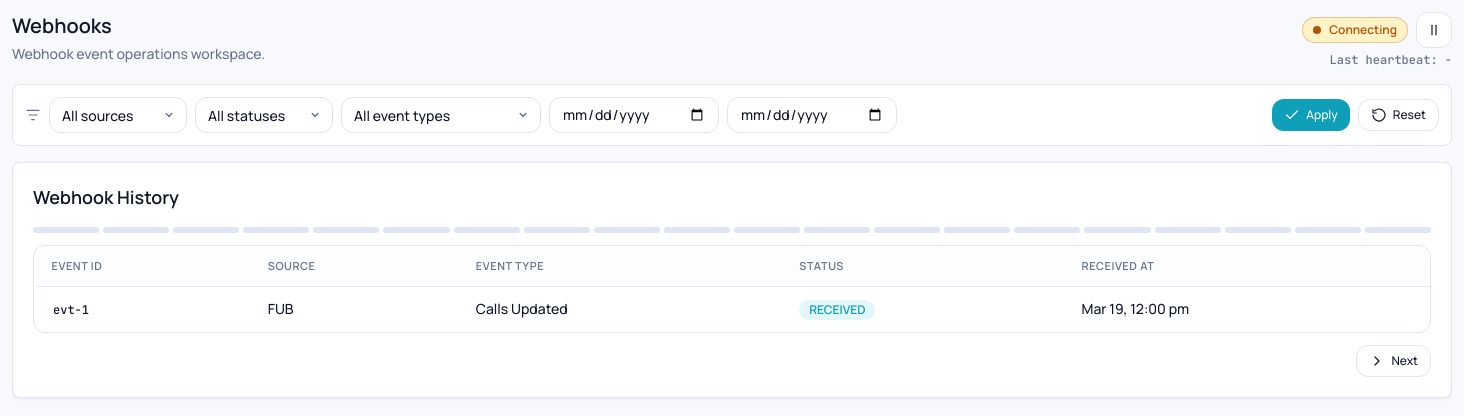
Webhooks page Step 2 › requests next cursor page and replaces rows
This screenshot has width=1464, height=416.
Expected: the text "evt-1" is shown, x1=53 y1=302 x2=89 y2=318
Click the button with aria-label "Load next page".
click(1394, 361)  # box x1=1356 y1=345 x2=1431 y2=377
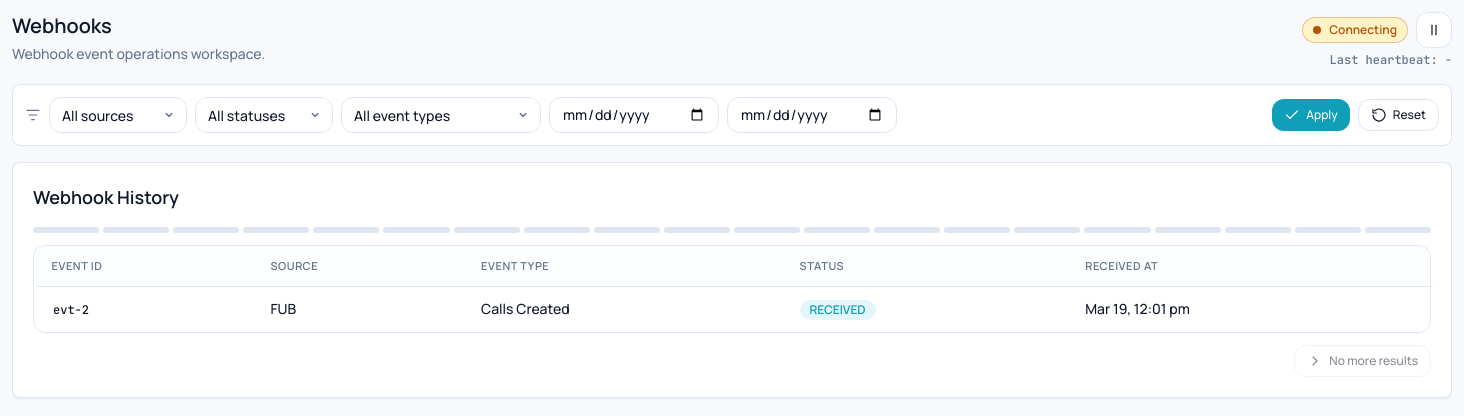
Expected: the text "evt-2" is shown, x1=53 y1=302 x2=89 y2=318
